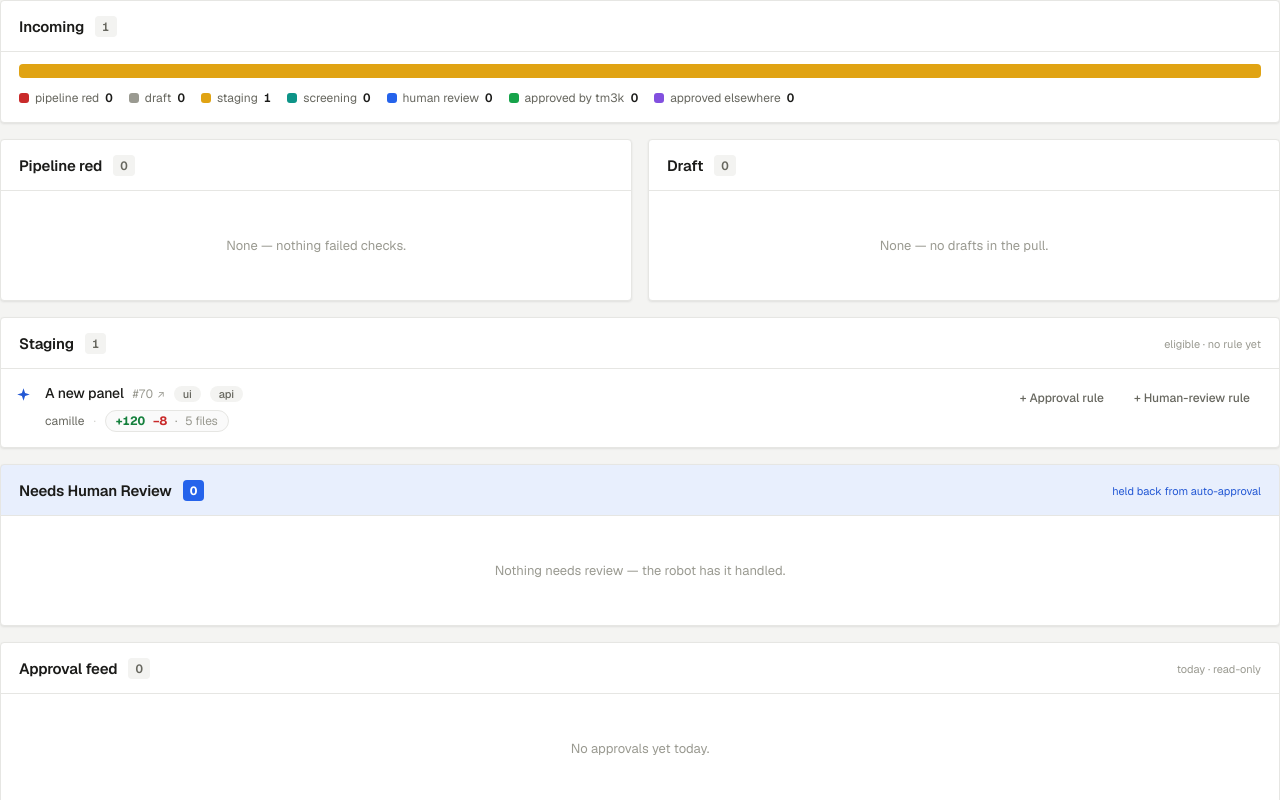
Scenario: Pipeline funnel — Staging › opens the diff modal when the staging row's diff pill is clicked
The image size is (1280, 800).
Click the button with aria-label "view diff for #70" at (167, 421), box [105,410,229,432]
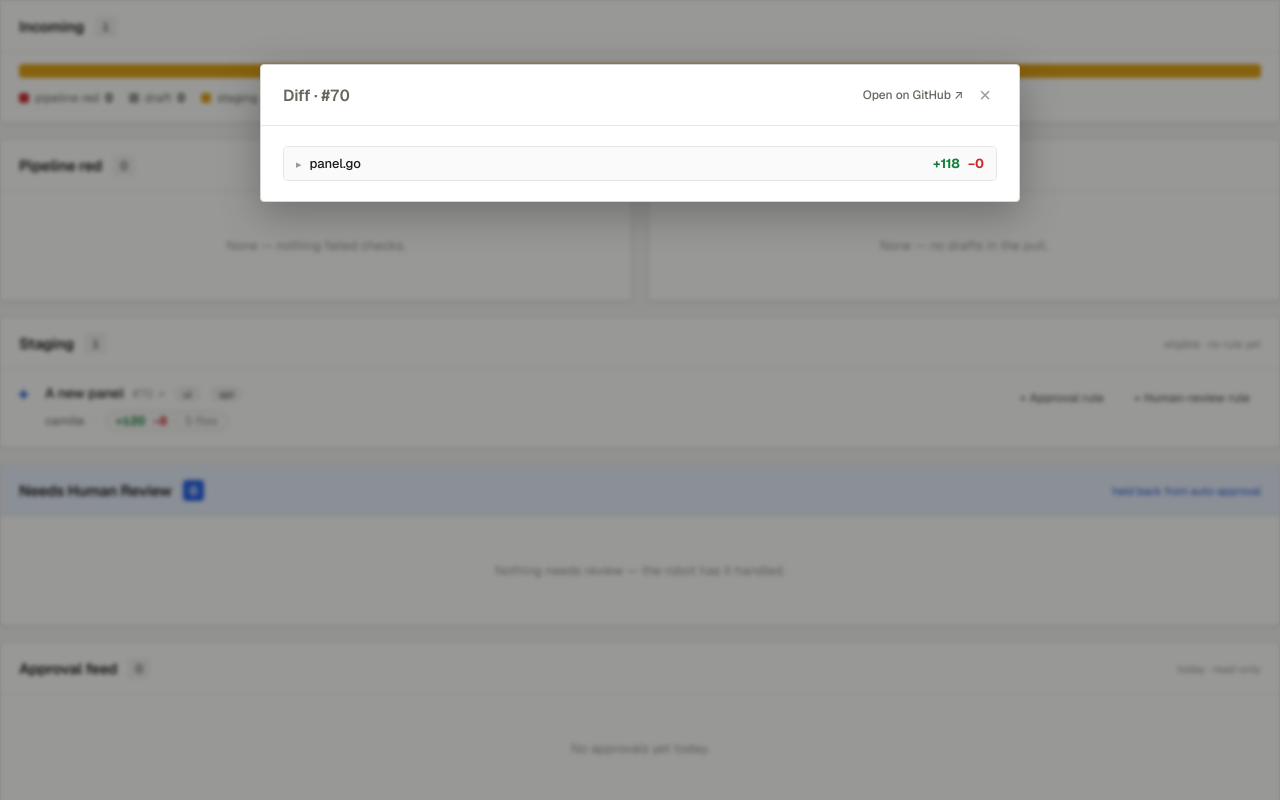
Check: the text "panel.go" is shown, box [310,155,361,172]
